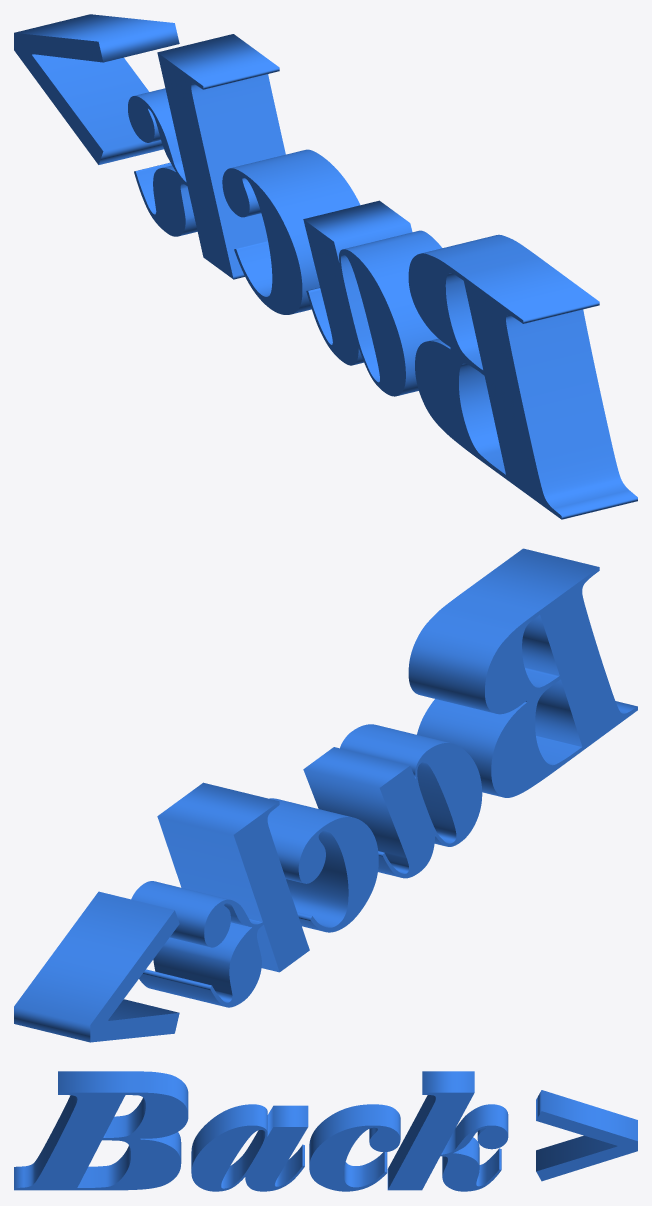
File: back.glb
The picture shows the model from 3 angles, top to bottom: view 1: azimuth 30°, elevation 25°; view 2: azimuth 150°, elevation 25°; view 3: azimuth 270°, elevation 25°; orthographic projection. The views are drawn at different scales.
Parts seen in each view (by area): view 1: Text; view 2: Text; view 3: Text.
Part boxes in pixels (x1,y1,x2,y2): Text: [14, 14, 637, 519]; Text: [14, 548, 637, 1042]; Text: [14, 1071, 637, 1191].
Size of the model in its own units: 0.34 by 0.7406 by 4.23.
